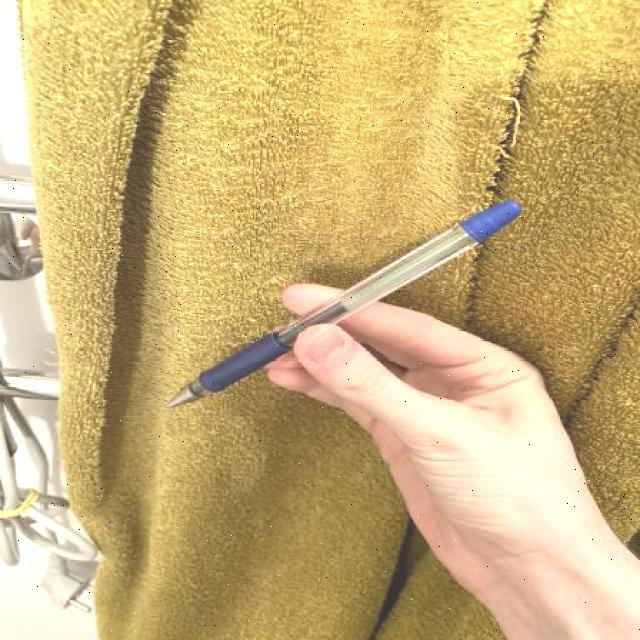pen: (164, 196, 522, 411)
